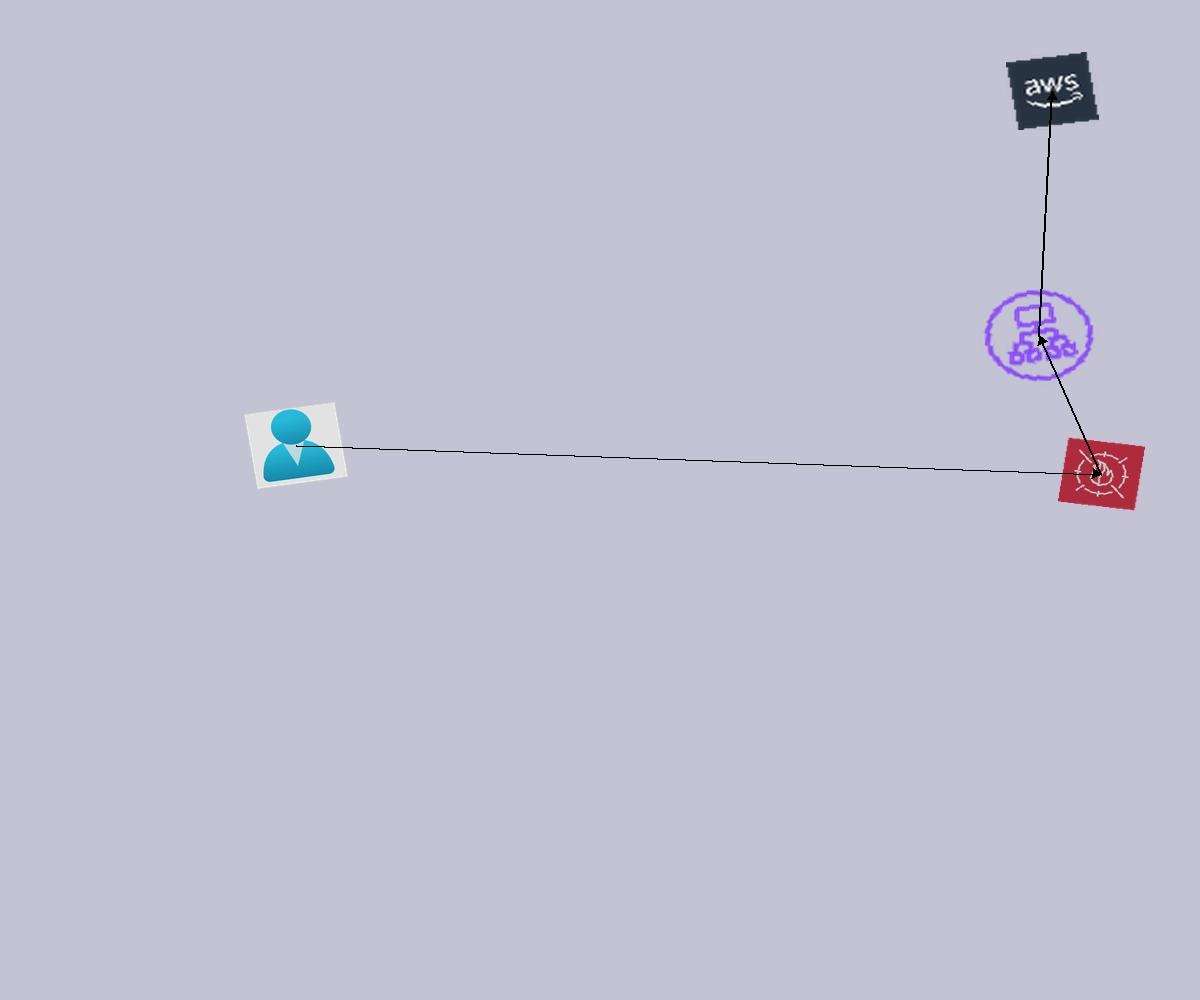AWS-Cloud-logo: (1006, 52, 1099, 130)
AWS-Res_Elastic-Load-Balancing_Application-Load-Balancer: (968, 276, 1110, 395)
AWS-WAF: (1057, 437, 1146, 511)
Azure_users: (244, 402, 348, 489)
